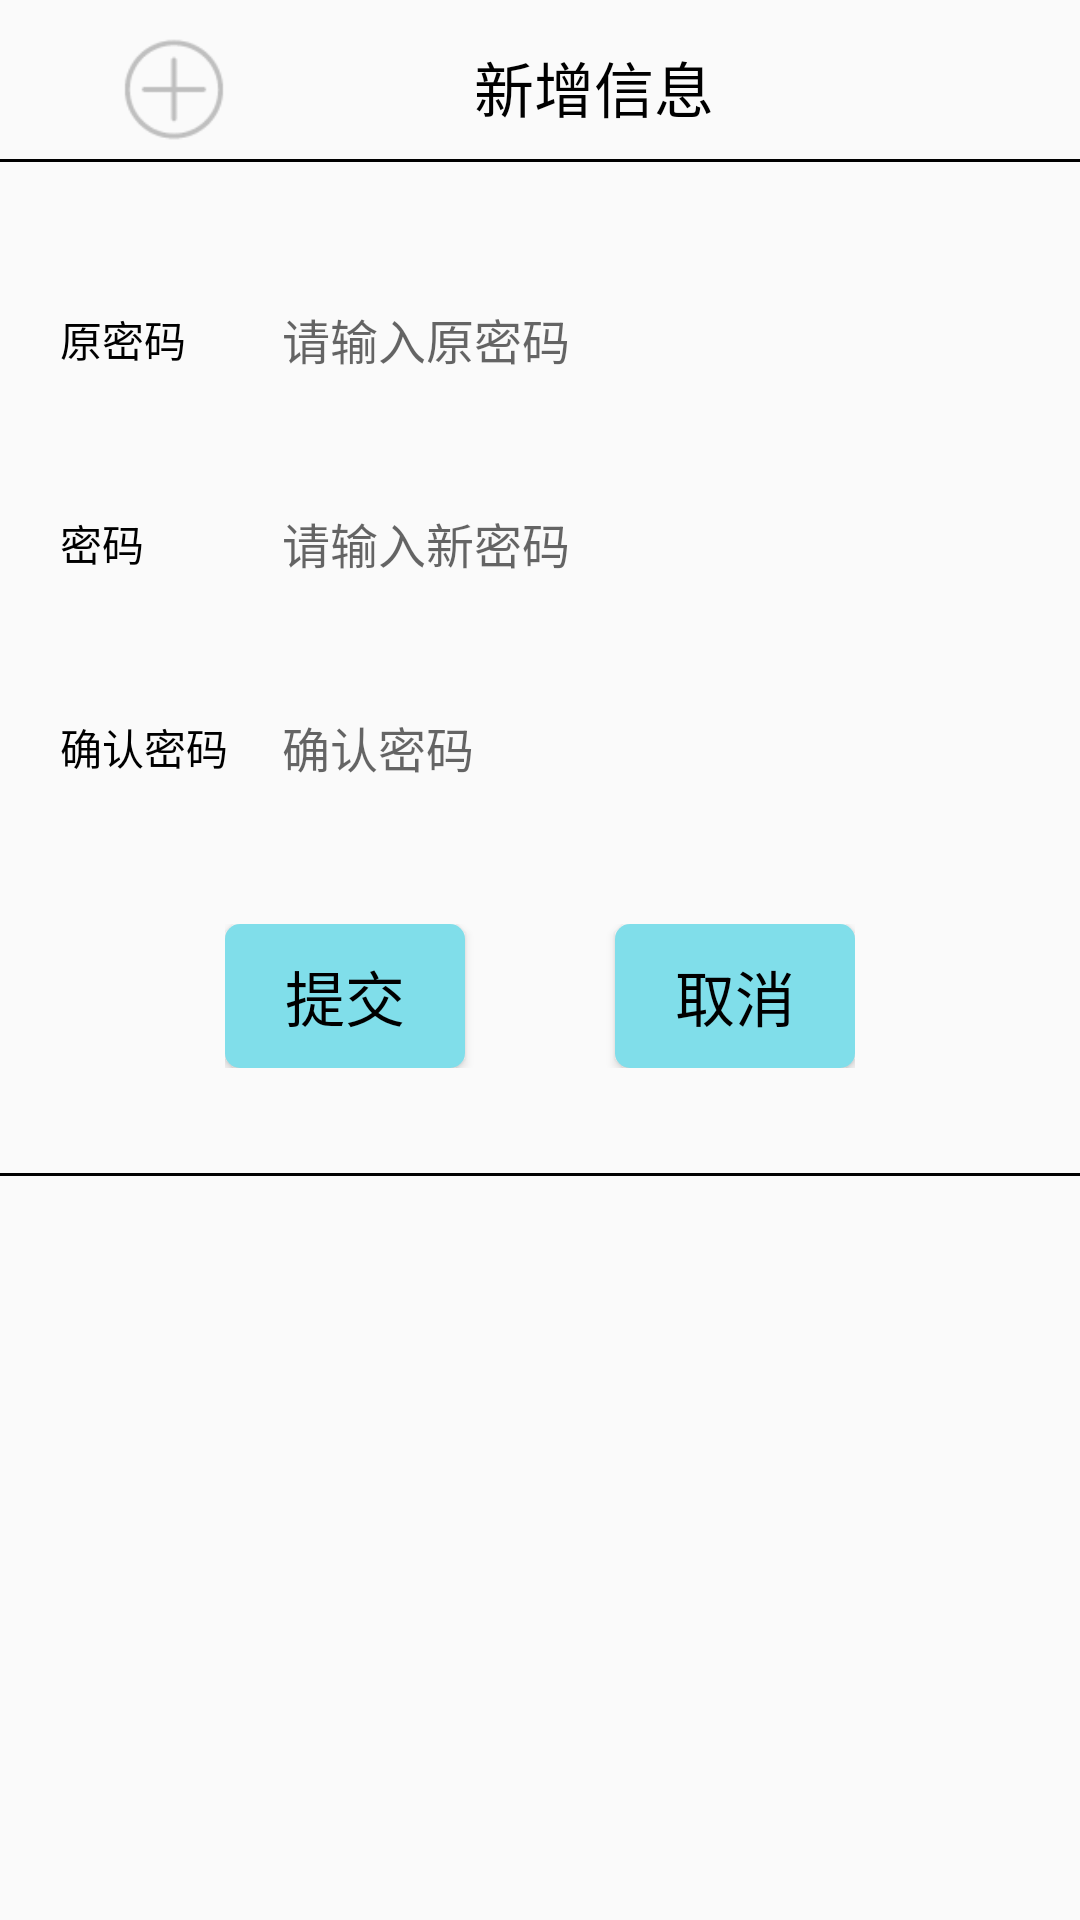

Point at icon controls on the screen. Image size 1080 × 1920, points as (x,y).
add: (174,89)
